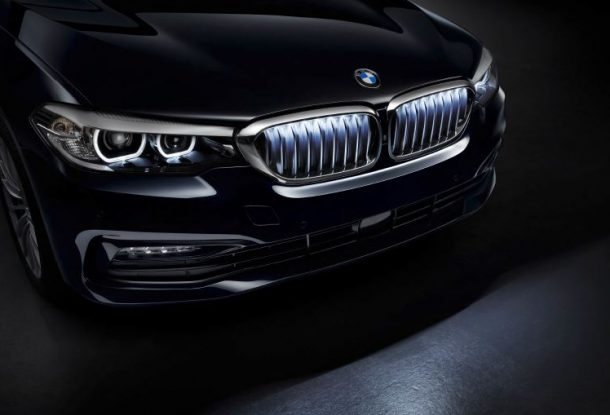bmw: (1, 1, 539, 320)
